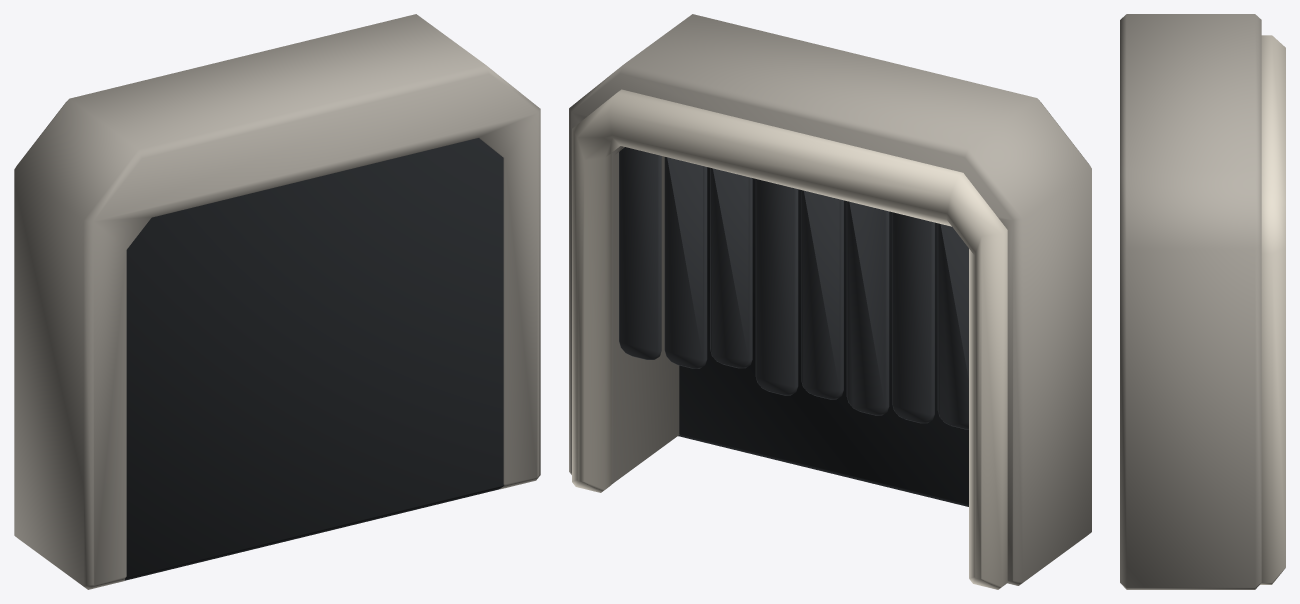
Rendered from portique_sortie.glb.
The picture shows the model from 3 angles, left to right: view 1: azimuth 30°, elevation 25°; view 2: azimuth 150°, elevation 25°; view 3: azimuth 270°, elevation 25°; orthographic projection. The views are drawn at different scales.
Visible parts, largest first — view 1: POS_Noir, POS_Mur; view 2: POS_Mur, POS_Struct, POS_Noir, POS_Laniere_04, POS_Laniere_06, POS_Laniere_02, POS_Laniere_01, POS_Laniere_07, POS_Laniere_05, POS_Laniere_03, POS_Laniere_08; view 3: POS_Mur, POS_Struct.
Part boxes in pixels (<box>): POS_Noir: <box>124,138,504,580</box>; POS_Mur: <box>14,14,540,589</box>; POS_Mur: <box>569,14,1091,585</box>; POS_Struct: <box>572,89,1008,589</box>; POS_Noir: <box>678,167,968,506</box>; POS_Laniere_04: <box>755,179,798,395</box>; POS_Laniere_06: <box>846,201,889,415</box>; POS_Laniere_02: <box>664,157,707,368</box>; POS_Laniere_01: <box>619,147,661,359</box>; POS_Laniere_07: <box>892,212,934,423</box>; POS_Laniere_05: <box>801,190,843,399</box>; POS_Laniere_03: <box>710,167,752,368</box>; POS_Laniere_08: <box>937,223,968,429</box>; POS_Mur: <box>1120,14,1261,589</box>; POS_Struct: <box>1260,35,1285,584</box>.
Size of the model in its own units: 1.62 by 1.45 by 0.55.
